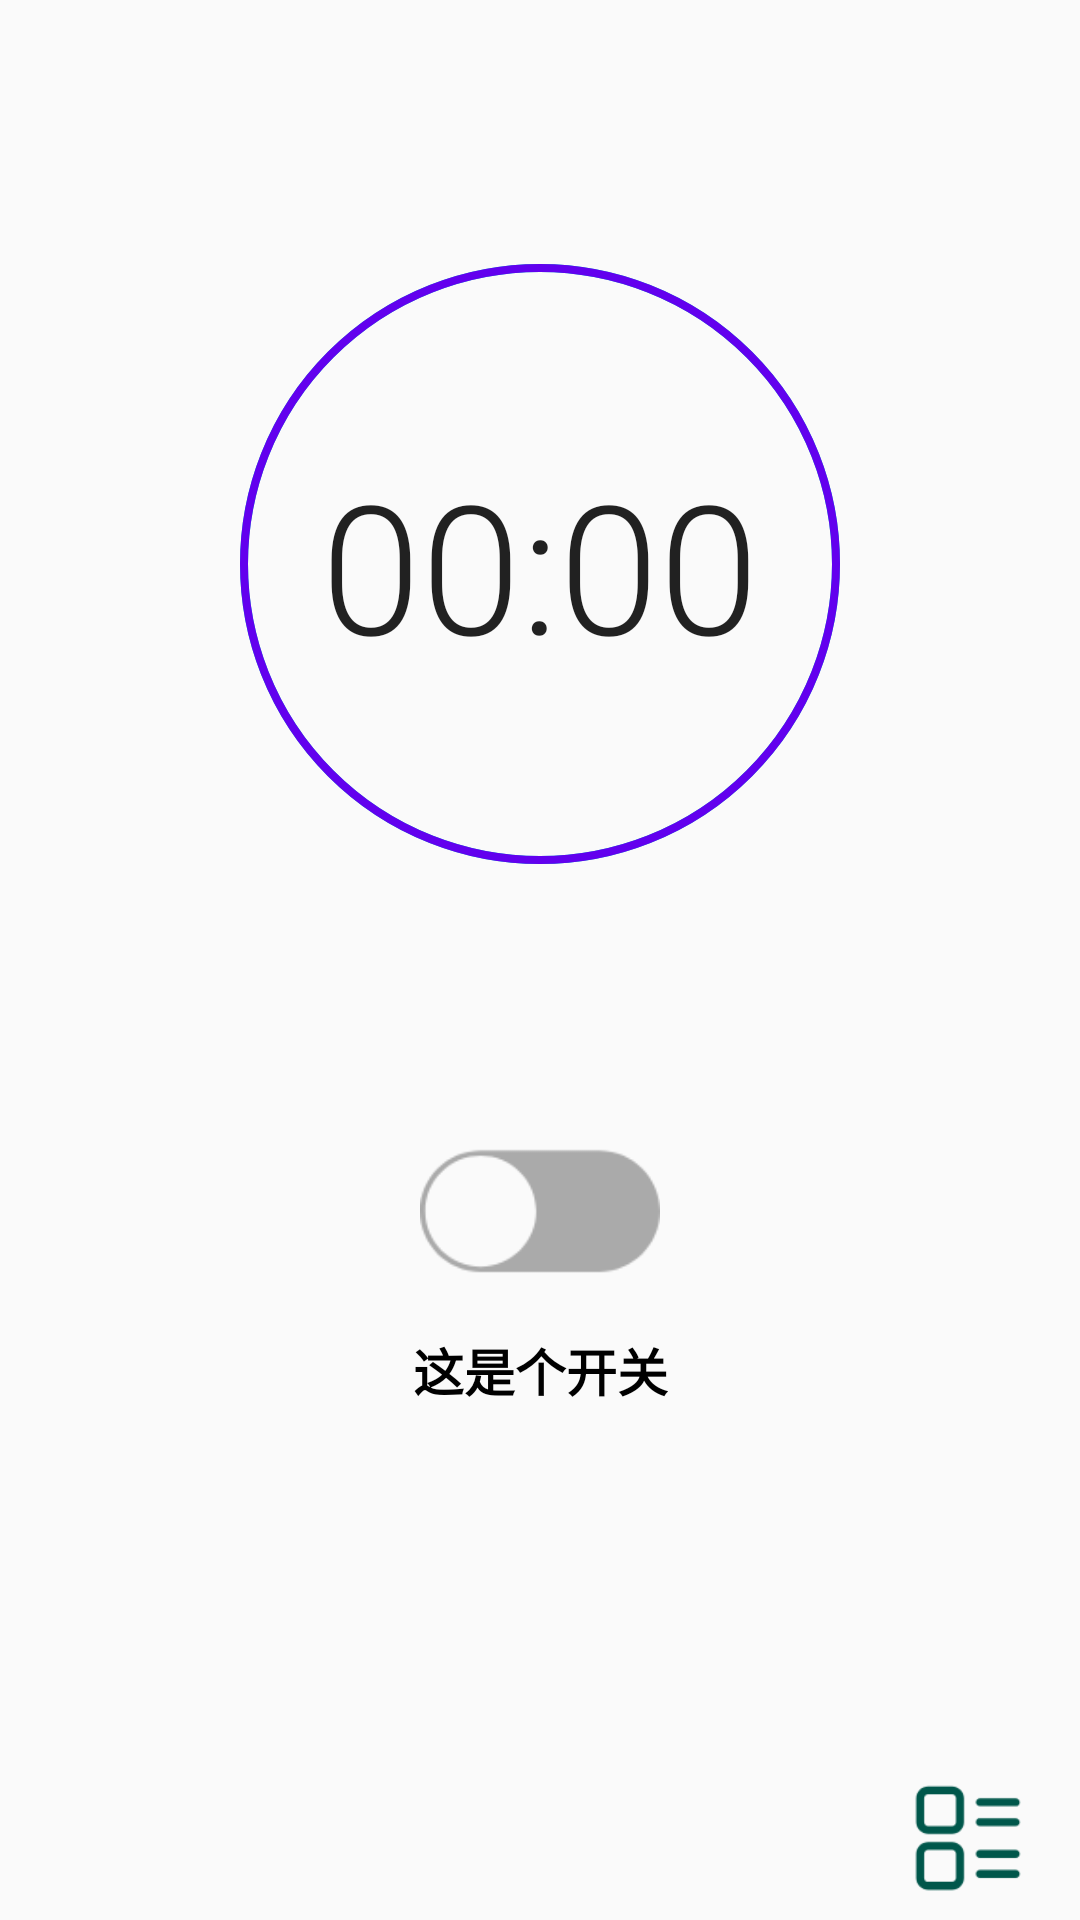

Where icons sit on this 1080*1920 app screen, as box=[x1, y1, x2, y2]:
list: box=[915, 1785, 1021, 1891]
